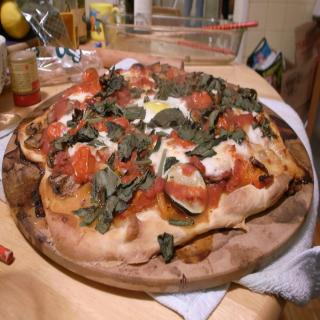Pizza: (0, 58, 319, 278)
